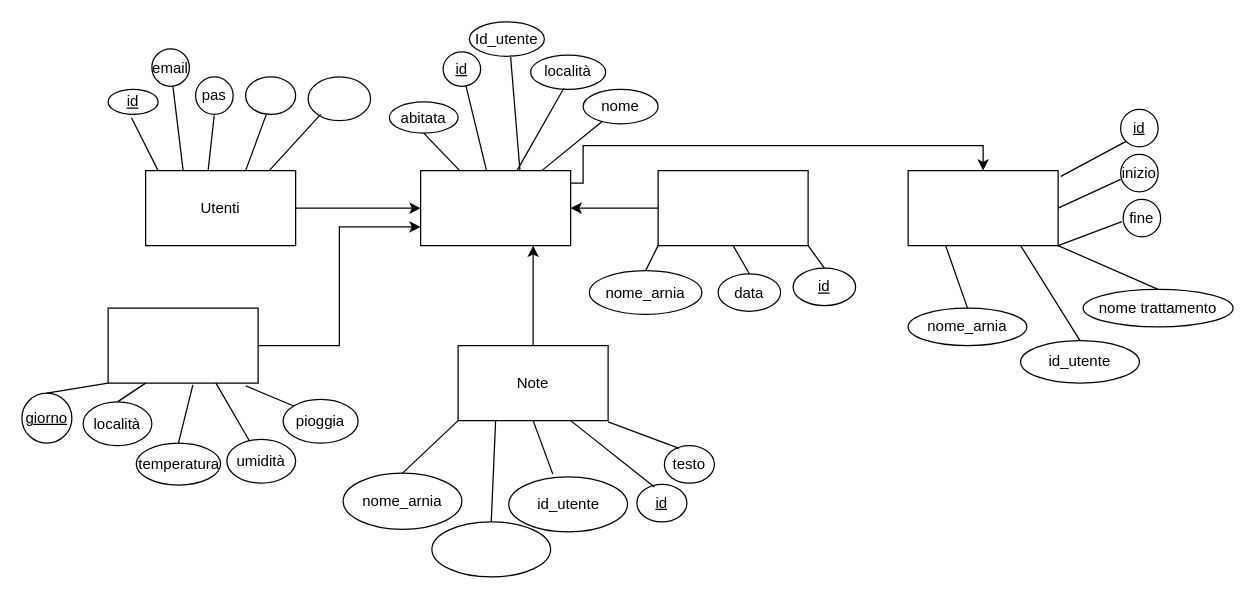
The diagram is 1255 pixels wide and 609 high, and some of its shapes have lost their labels. The centre of each missing label's shape, as x and y in pixels:
"admin" belongs at point 339,98.
"Arnie" belongs at point 495,207.
"Cure" belongs at point 982,207.
"data_nota" belongs at point 491,549.
"Historical" belongs at point 182,345.
"storicoRegine" belongs at point 732,207.
"utente" belongs at point 270,95.
